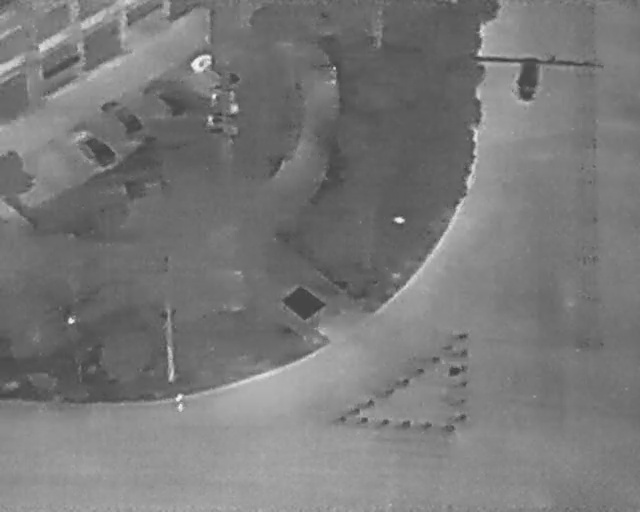Car: (63, 116, 121, 175), (94, 88, 150, 145), (140, 72, 193, 125), (512, 52, 544, 104)
